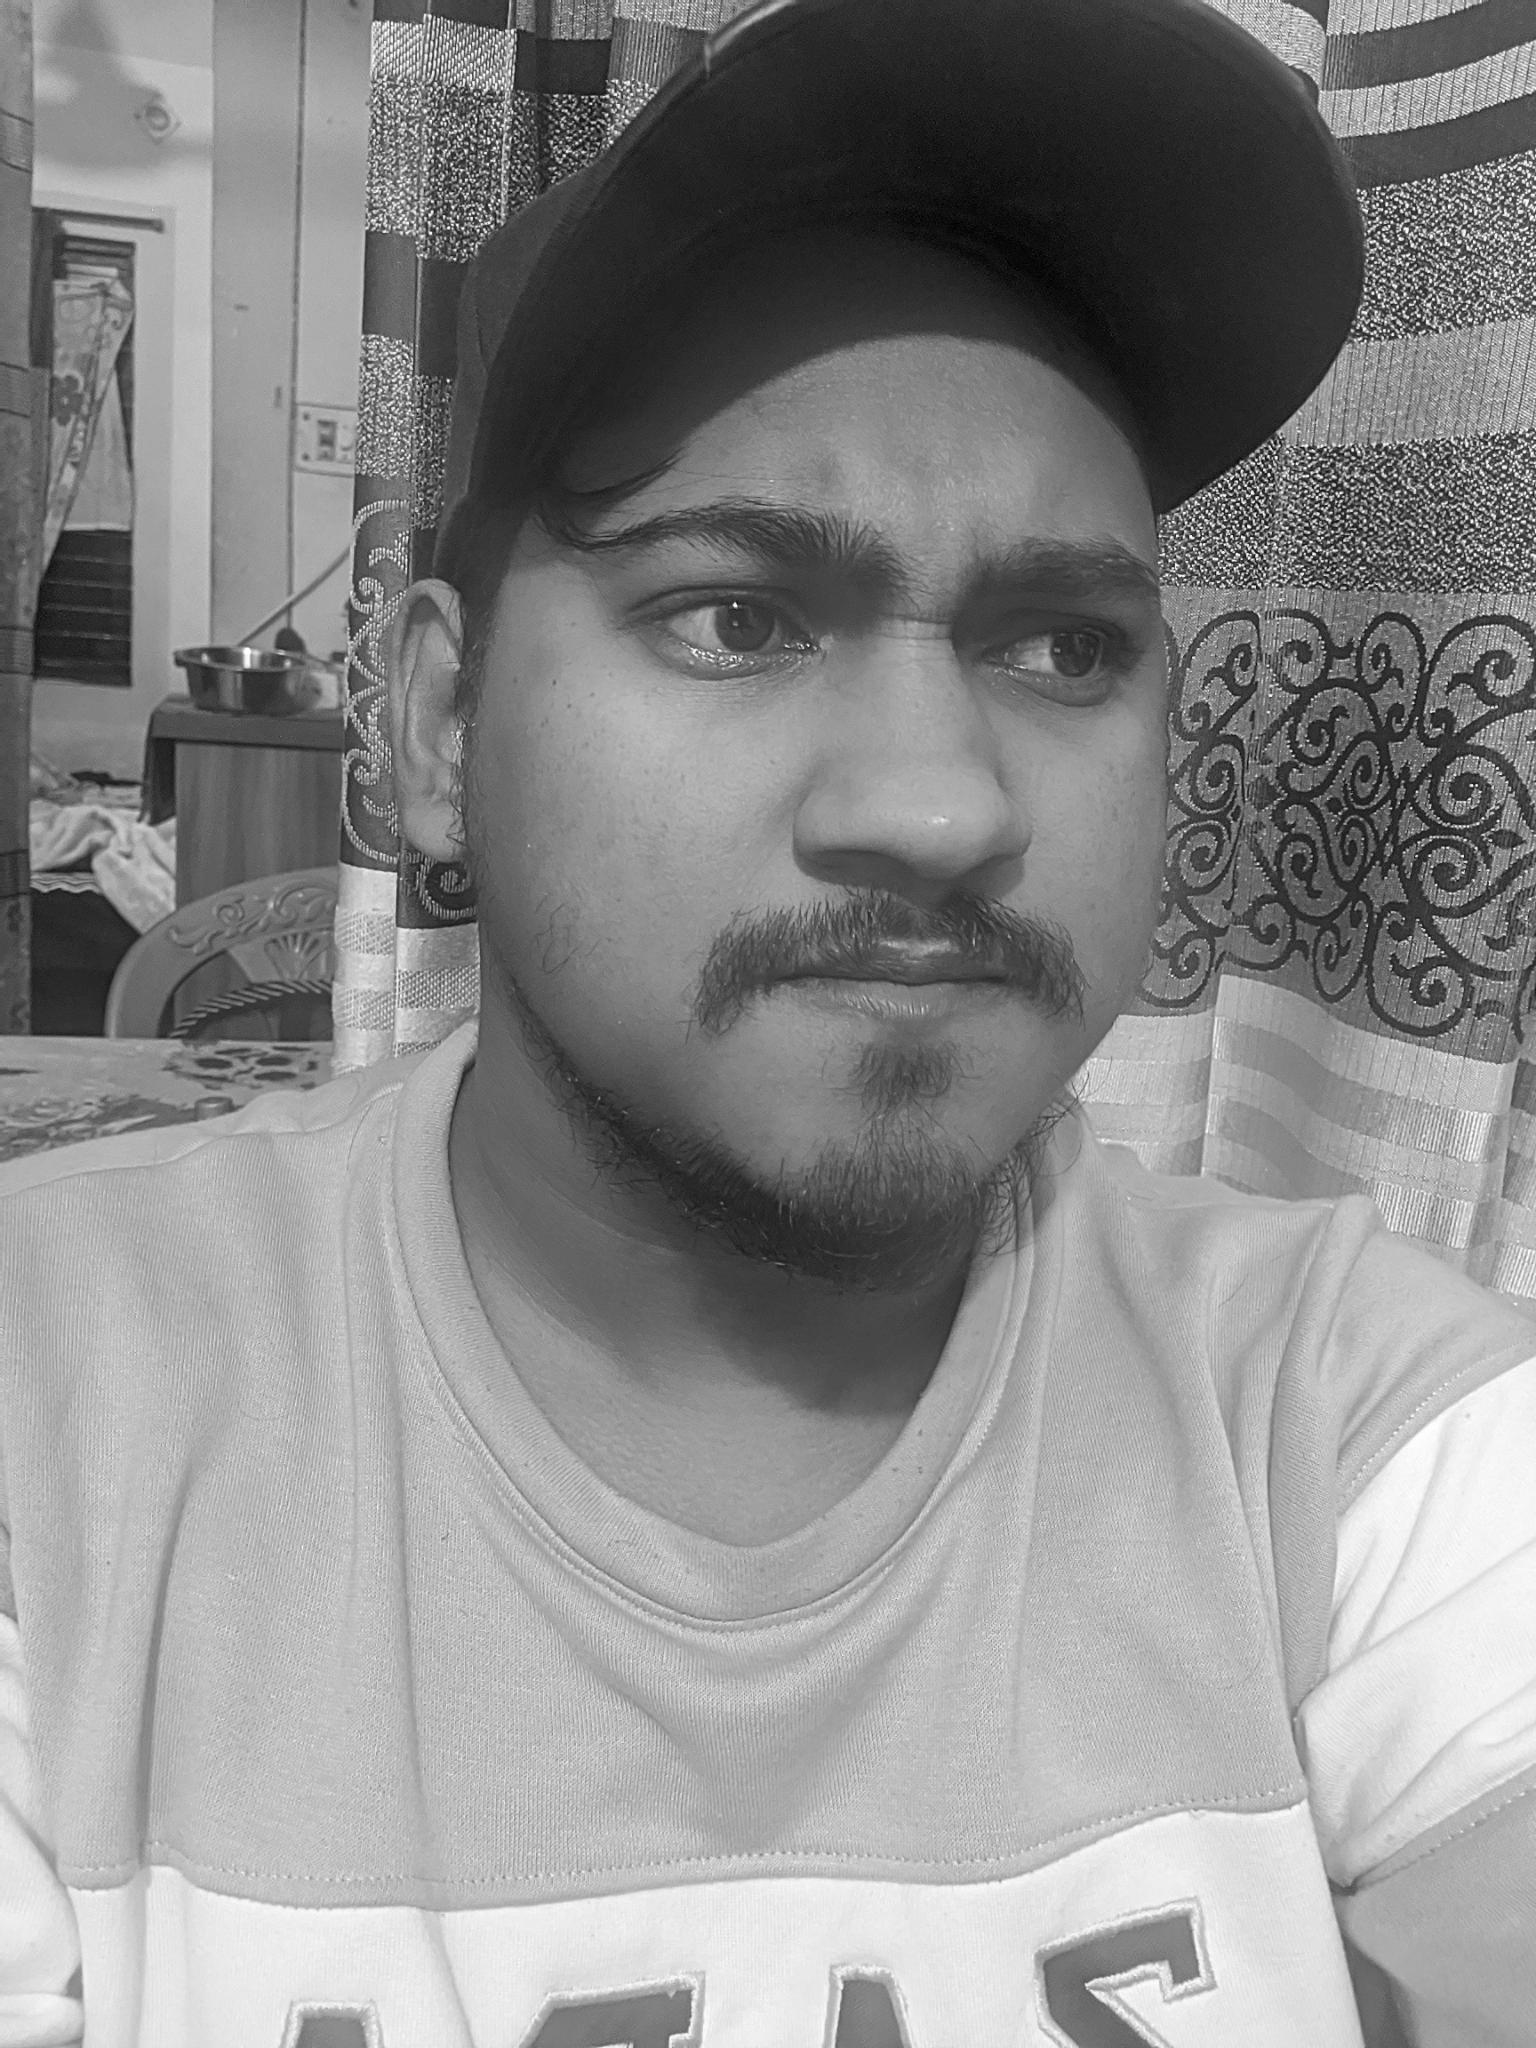Angry: (552, 445, 1194, 1184)
